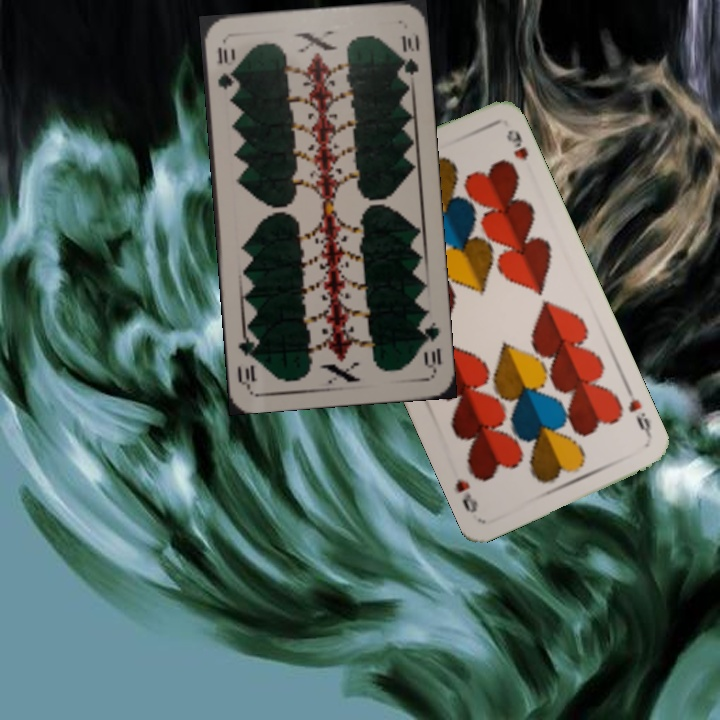G10: (416, 314, 444, 373), (213, 42, 237, 92)
H9: (623, 384, 655, 441)
